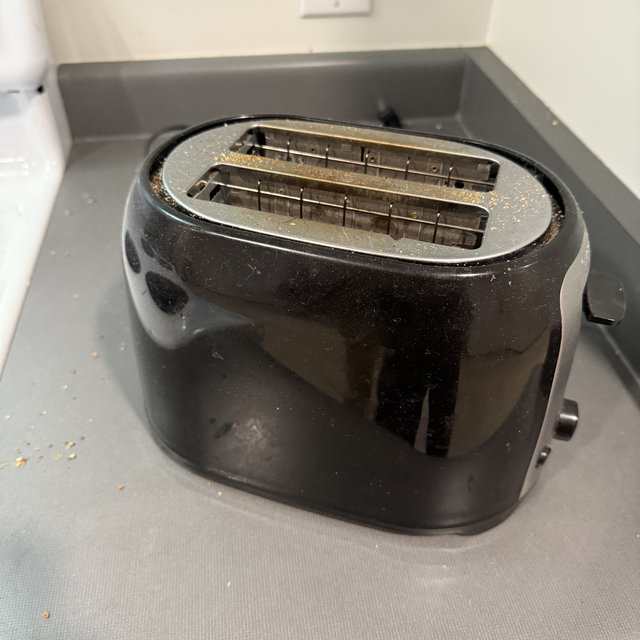Toaster: (109, 94, 585, 532)
